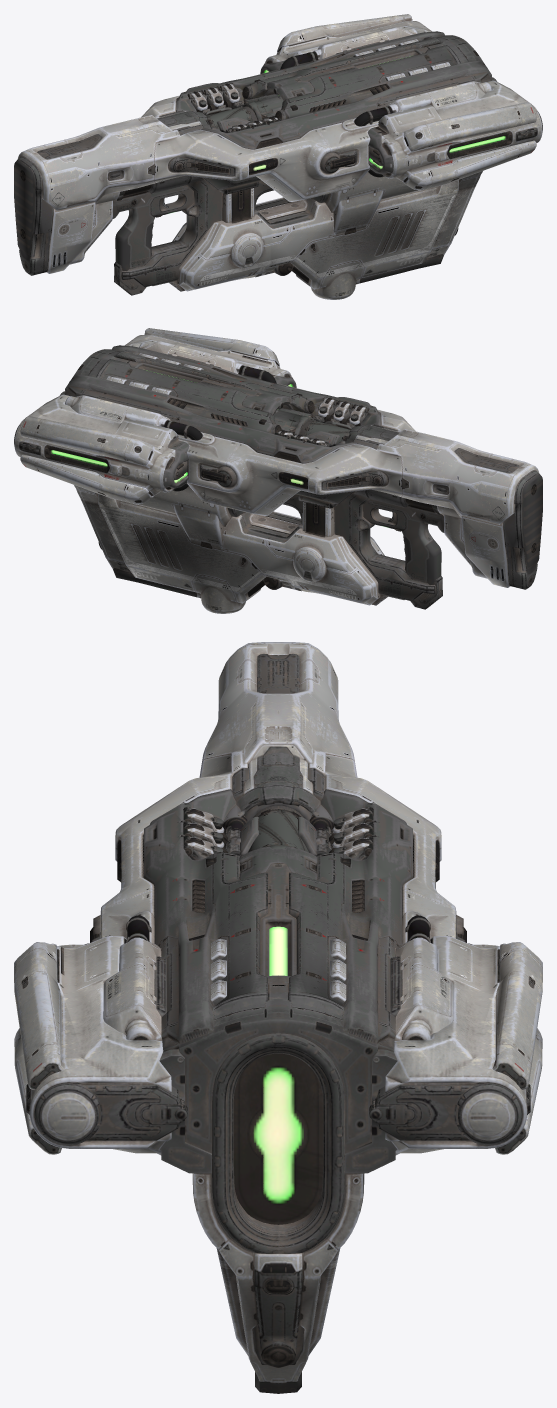
File: BFG.glb
3 views of the same model, one above another, from view 1: azimuth 30°, elevation 25°; view 2: azimuth 150°, elevation 25°; view 3: azimuth 270°, elevation 25° (orthographic). The views are drawn at different scales.
Parts seen in each view (by area): view 1: Object_2; view 2: Object_2; view 3: Object_2.
Boxes of the visible parts, bbox=[...] form: Object_2: bbox=[14, 14, 542, 299]; Object_2: bbox=[14, 328, 542, 613]; Object_2: bbox=[14, 642, 542, 1393].
Size of the model in its own units: 113 by 52.32 by 60.16.
1 material, 1 textured.
